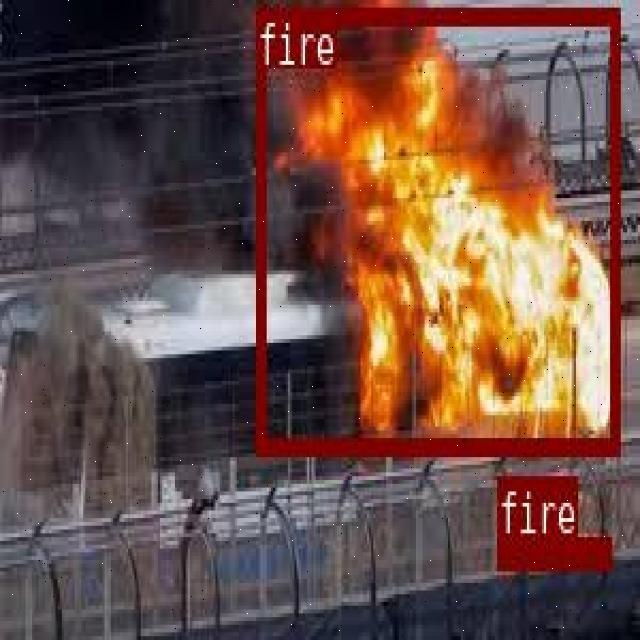fire: (255, 5, 617, 450), (496, 534, 609, 566)
